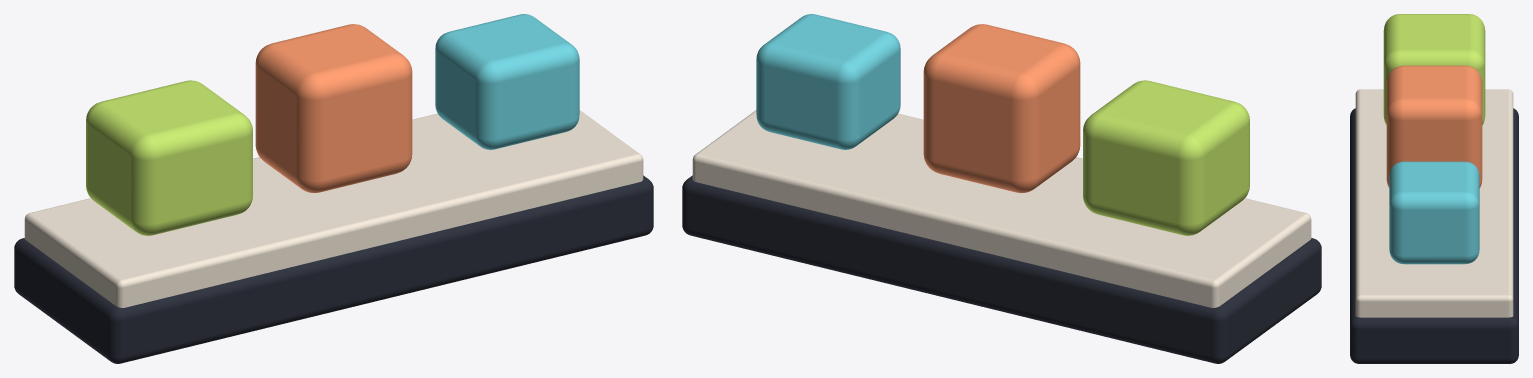
File: pipeline.glb
3 views of the same model, side by side, from view 1: azimuth 30°, elevation 25°; view 2: azimuth 150°, elevation 25°; view 3: azimuth 270°, elevation 25° (orthographic). The views are drawn at different scales.
Size of the model in its own units: 1.35 by 0.5118 by 0.4451.
